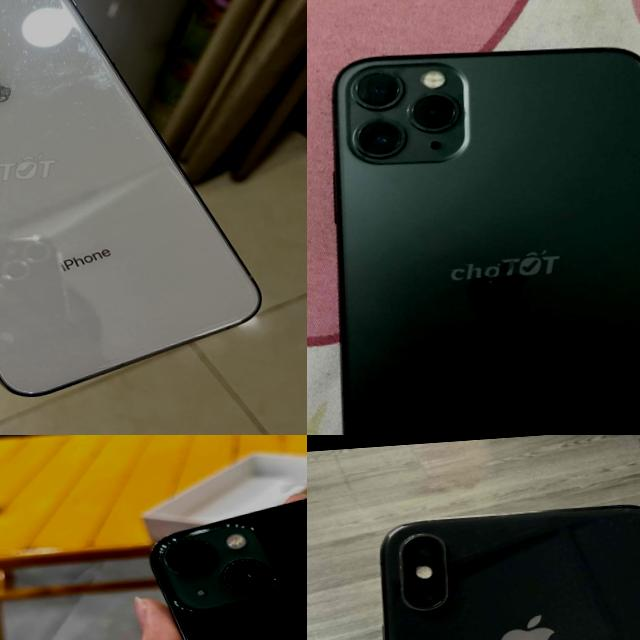scratch: (0, 0, 125, 112), (337, 59, 462, 162), (386, 541, 408, 601)
